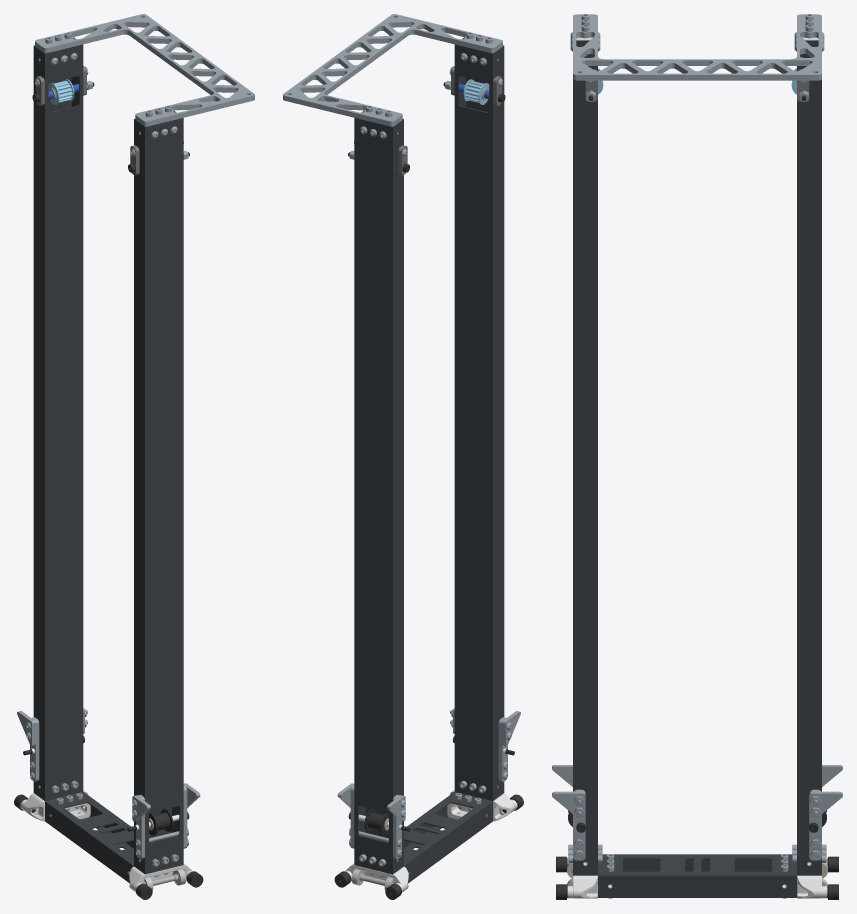
3 views of the same model, side by side, from view 1: azimuth 30°, elevation 25°; view 2: azimuth 150°, elevation 25°; view 3: azimuth 270°, elevation 25° (orthographic). The views are drawn at different scales.
Visible parts, largest first — view 1: 4322-ELV-S1-02-BACK_VERTICAL, 4322-ELV-S1-01-FRONT_VERTICAL, 4322-ELV-S1-28-FLAT_CROSSRAIL, 4322-ELV-S1-03-BOTTOM_HORIZONTAL, Elevator Bearing Block Body REV4(All Parts, Long Spacers); view 2: 4322-ELV-S1-01-FRONT_VERTICAL, 4322-ELV-S1-02-BACK_VERTICAL, 4322-ELV-S1-28-FLAT_CROSSRAIL, 4322-ELV-S1-03-BOTTOM_HORIZONTAL, Elevator Bearing Block Body REV4(All Parts, Long Spacers); view 3: 4322-ELV-S1-02-BACK_VERTICAL, 4322-ELV-S1-01-FRONT_VERTICAL, 4322-ELV-S1-03-BOTTOM_HORIZONTAL, 4322-ELV-S1-28-FLAT_CROSSRAIL, Elevator Bearing Block Body REV4(All Parts, Long Spacers) (×2).
Boxes of the visible parts, bbox=[...] form: 4322-ELV-S1-02-BACK_VERTICAL: bbox=[33, 37, 83, 800]; 4322-ELV-S1-01-FRONT_VERTICAL: bbox=[134, 110, 183, 874]; 4322-ELV-S1-28-FLAT_CROSSRAIL: bbox=[35, 14, 254, 126]; 4322-ELV-S1-03-BOTTOM_HORIZONTAL: bbox=[45, 791, 133, 883]; Elevator Bearing Block Body REV4(All Parts, Long Spacers): bbox=[129, 863, 191, 891]; 4322-ELV-S1-01-FRONT_VERTICAL: bbox=[454, 37, 504, 800]; 4322-ELV-S1-02-BACK_VERTICAL: bbox=[354, 110, 403, 874]; 4322-ELV-S1-28-FLAT_CROSSRAIL: bbox=[283, 14, 502, 126]; 4322-ELV-S1-03-BOTTOM_HORIZONTAL: bbox=[404, 791, 492, 883]; Elevator Bearing Block Body REV4(All Parts, Long Spacers): bbox=[345, 863, 408, 891]; 4322-ELV-S1-02-BACK_VERTICAL: bbox=[797, 40, 821, 875]; 4322-ELV-S1-01-FRONT_VERTICAL: bbox=[573, 40, 597, 875]; 4322-ELV-S1-03-BOTTOM_HORIZONTAL: bbox=[598, 854, 796, 897]; 4322-ELV-S1-28-FLAT_CROSSRAIL: bbox=[573, 14, 821, 80]; Elevator Bearing Block Body REV4(All Parts, Long Spacers) (×2): bbox=[573, 875, 821, 898].
Size of the model in its own units: 0.1635 by 0.9812 by 0.2968.
